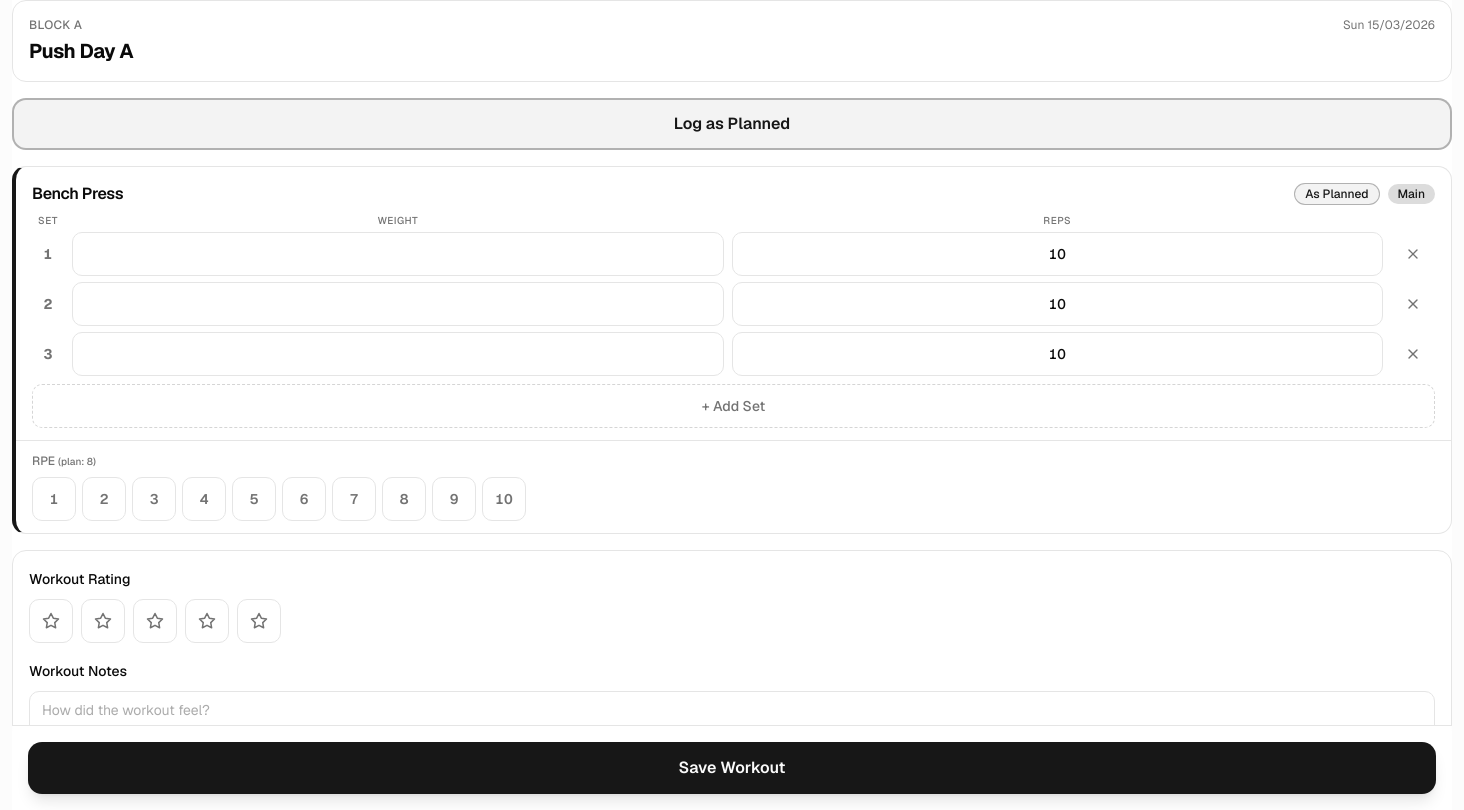
Copy Down — bodyweight exercise edge case › copies empty weight correctly
The width and height of the screenshot is (1464, 810).
// Edit set 1 reps (weight is empty for bodyweight)
Clear the field with test id "reps-input-0-0" at (1057, 254), box [732,232,1383,276]
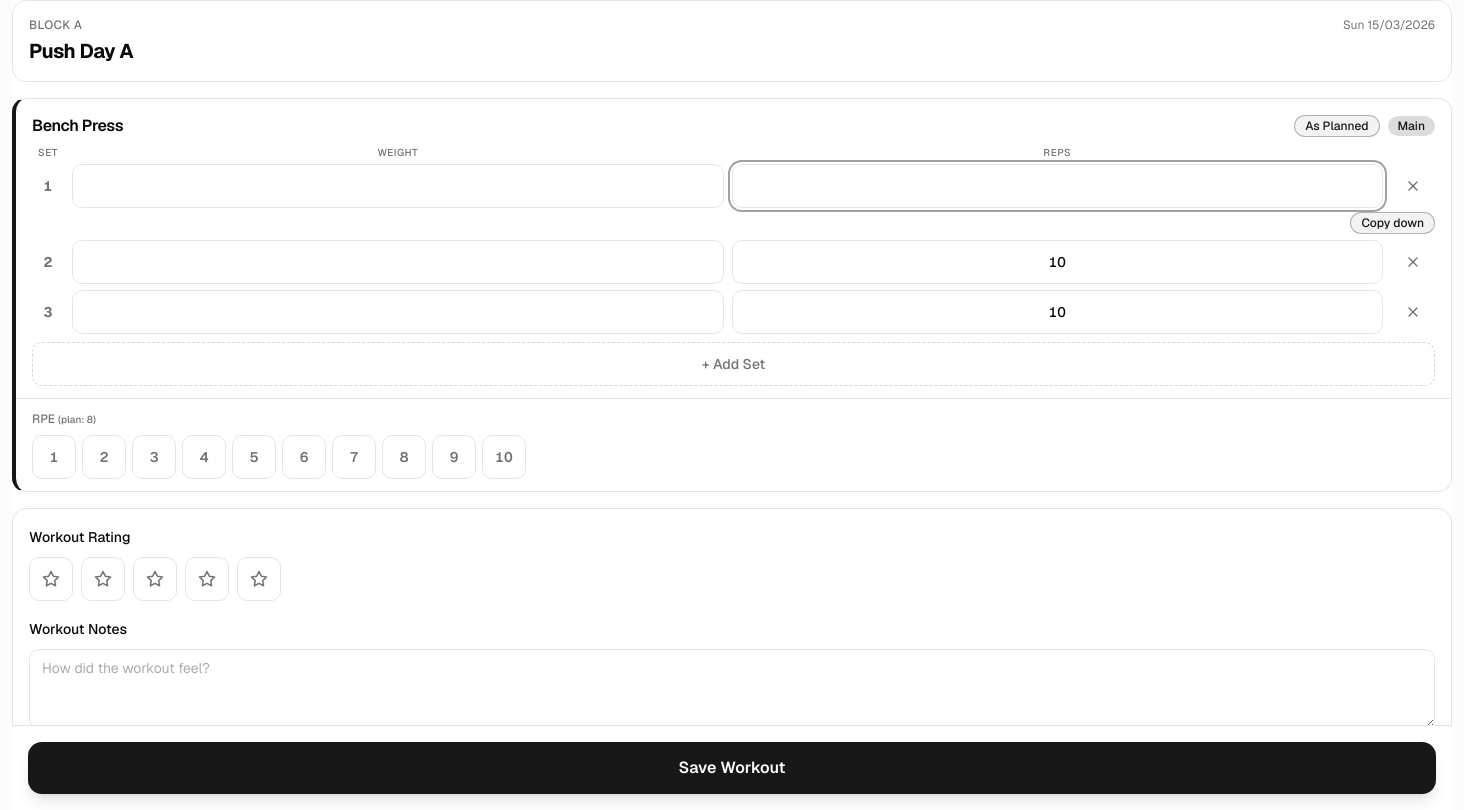
Type "12" into the field with test id "reps-input-0-0" at (1057, 186), box [732,164,1383,208]
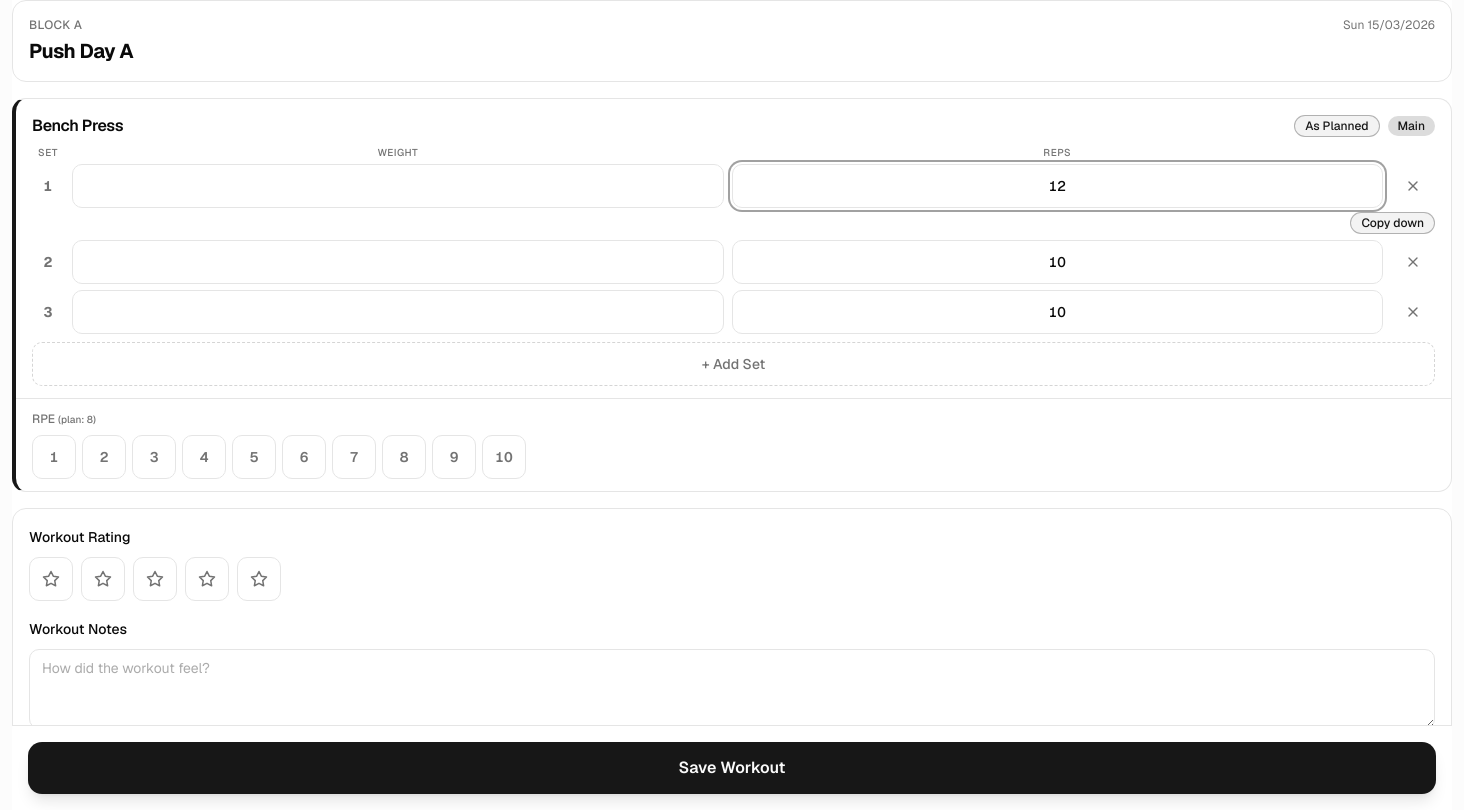
Click the button with test id "copy-down-btn-0" at (1393, 223), box [1350,212,1435,234]
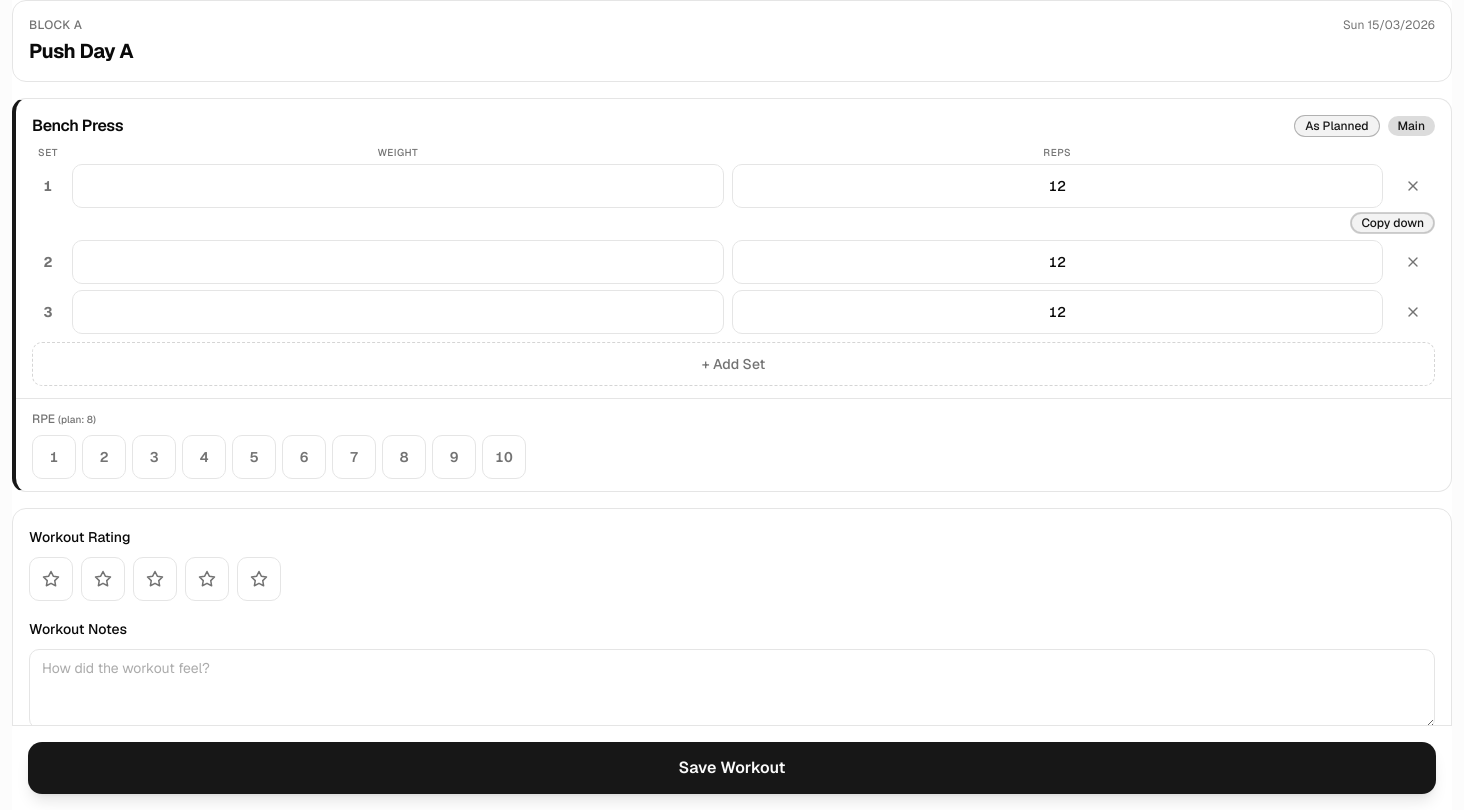
expect the field with test id "weight-input-0-1" is empty: met, box [72,240,724,284]
expect the field with test id "reps-input-0-1" holds "12": met, box [732,240,1383,284]
expect the field with test id "reps-input-0-2" holds "12": met, box [732,290,1383,334]
